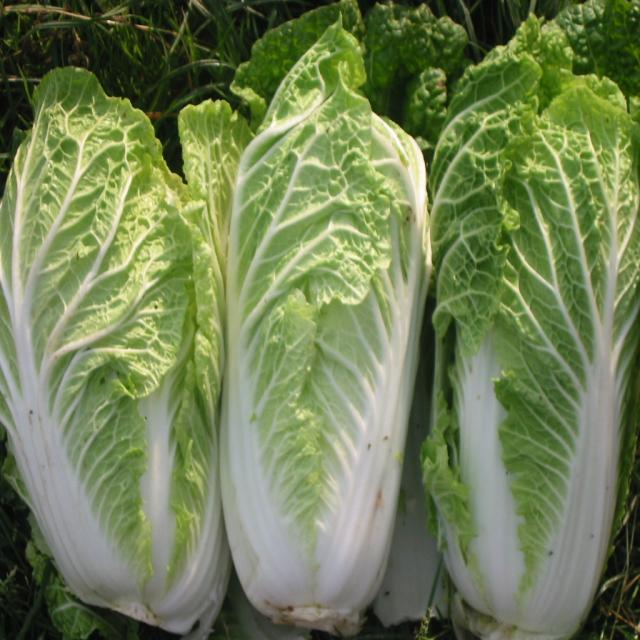cabbage: (426, 36, 640, 640), (12, 103, 219, 640), (224, 89, 417, 640)
